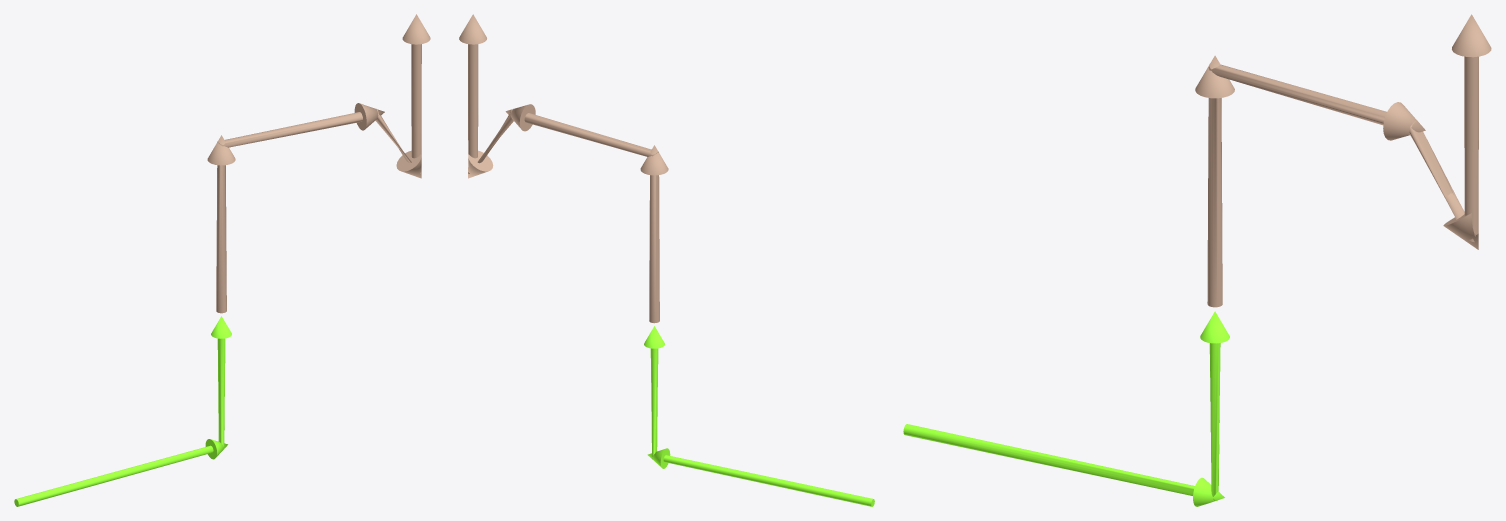
Rendered from fluidized_bed_combustor_flow.glb.
3 views of the same model, side by side, from view 1: azimuth 30°, elevation 25°; view 2: azimuth 150°, elevation 25°; view 3: azimuth 330°, elevation 25° (orthographic). The views are drawn at different scales.
Parts seen in each view (by area): view 1: flue_gas, fluidising_air; view 2: flue_gas, fluidising_air; view 3: flue_gas, fluidising_air.
Boxes of the visible parts, <box> form: flue_gas: <box>207,14,430,313</box>; fluidising_air: <box>14,316,231,506</box>; flue_gas: <box>459,14,668,323</box>; fluidising_air: <box>644,326,874,506</box>; flue_gas: <box>1195,14,1491,307</box>; fluidising_air: <box>903,311,1229,506</box>.
Size of the model in its own units: 3.51 by 3.26 by 0.308.
